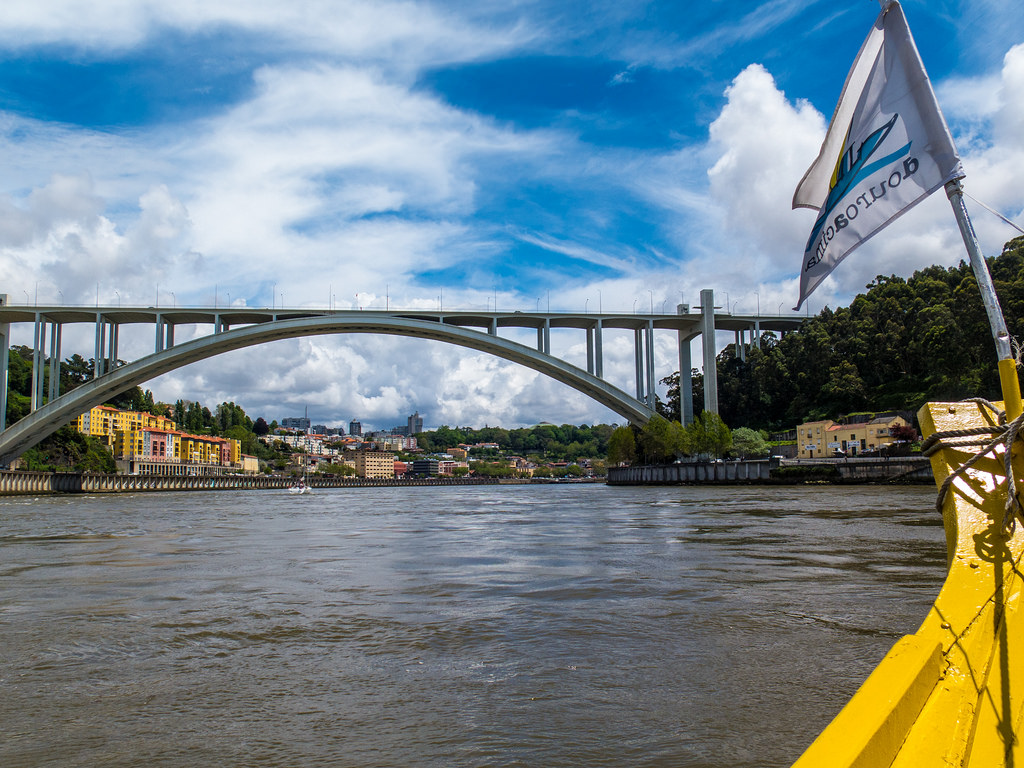arrabida: (0, 287, 819, 465)
